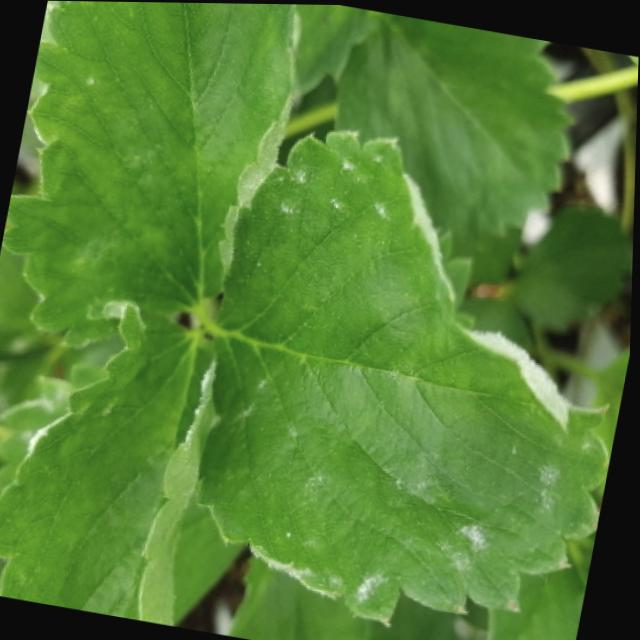Powdery Mildew Leaf: (200, 130, 614, 624), (2, 1, 298, 350), (0, 297, 215, 626)
